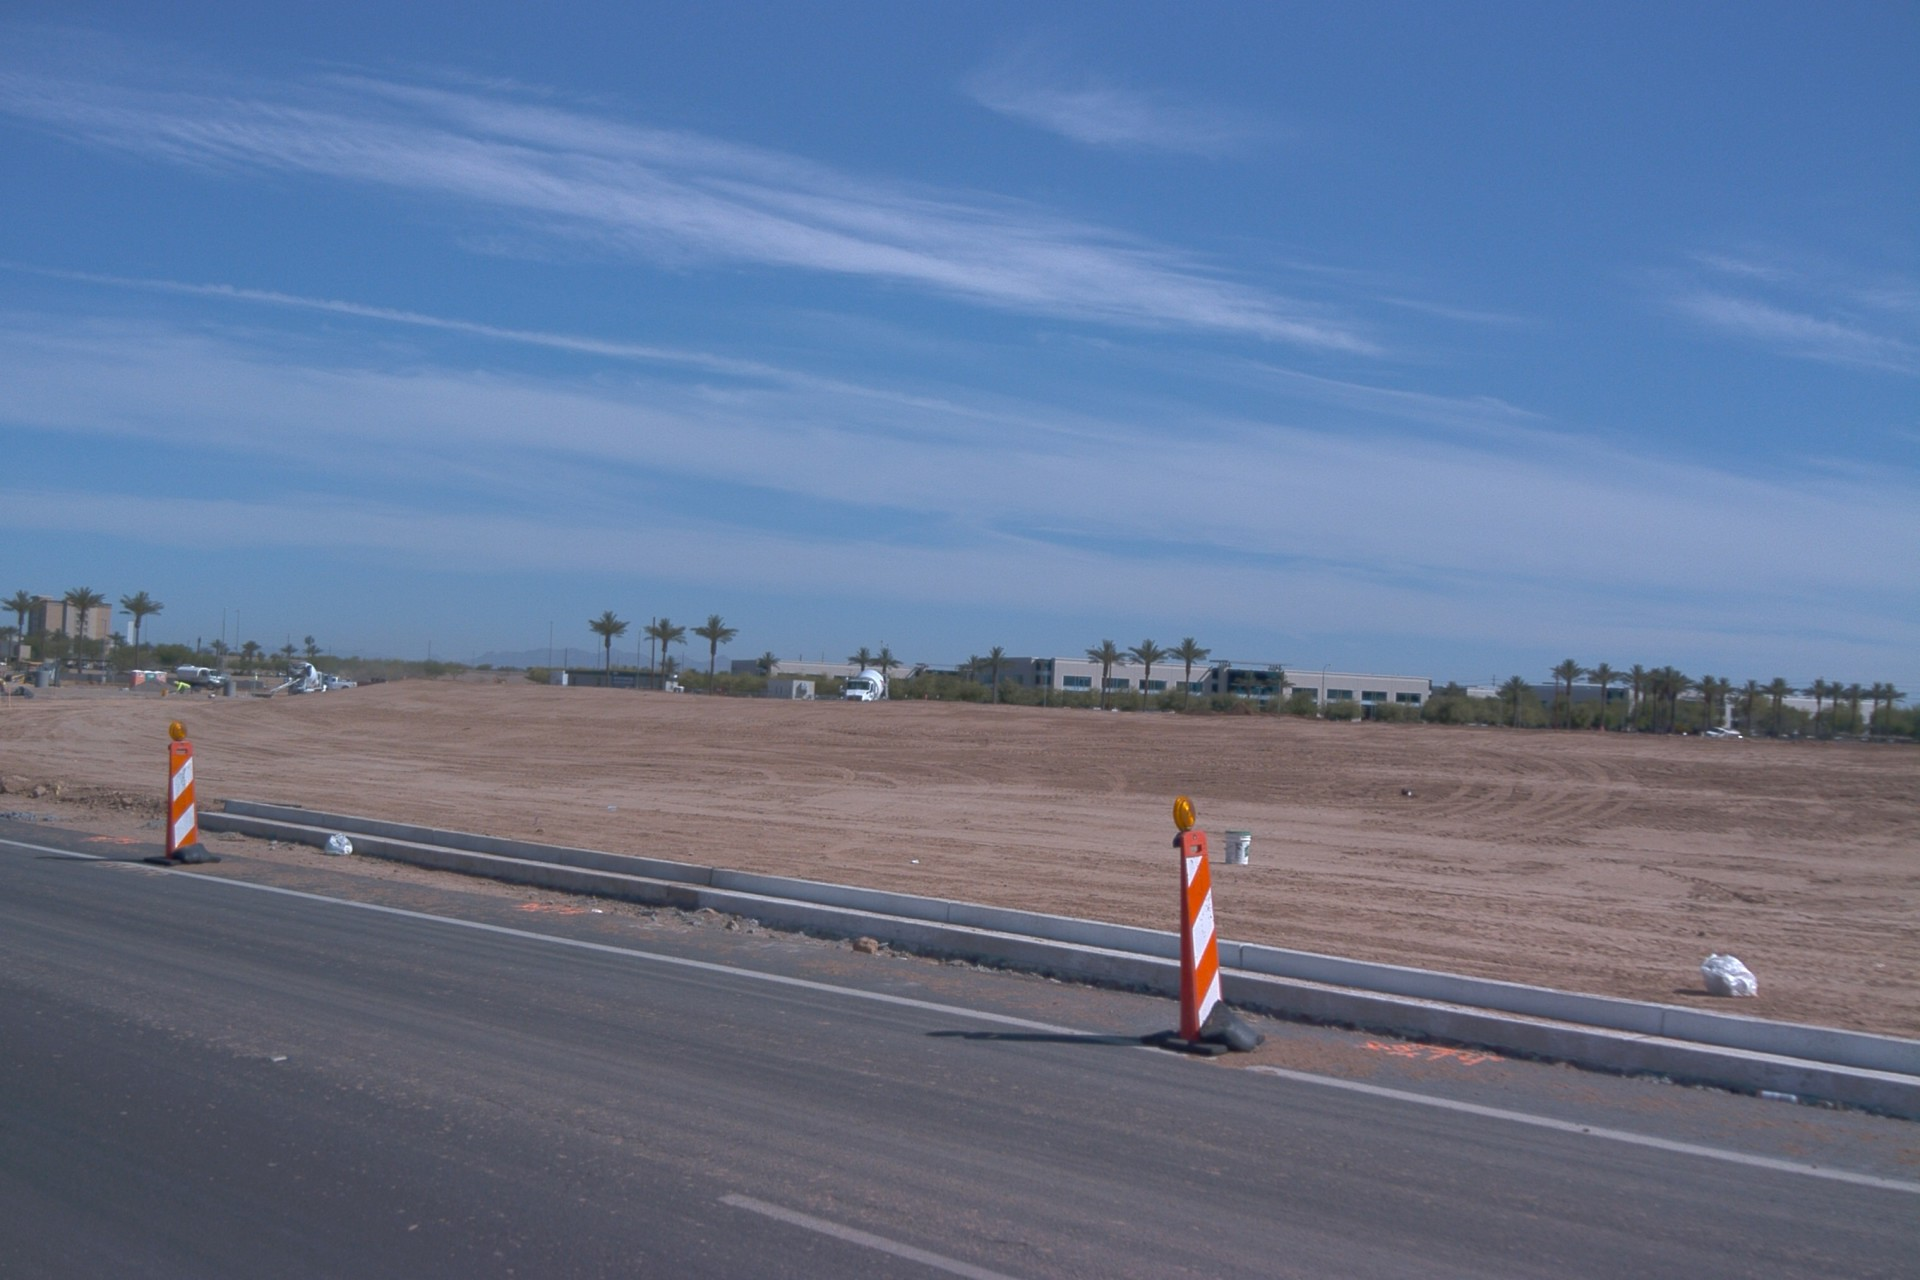TYPE_PEDESTRIAN: (173, 681, 192, 695), (1, 677, 9, 698)
TYPE_VEHICLE: (270, 662, 328, 701), (840, 671, 888, 705), (174, 666, 230, 693), (3, 659, 44, 685), (357, 677, 390, 699), (322, 677, 355, 693), (356, 676, 388, 689)
